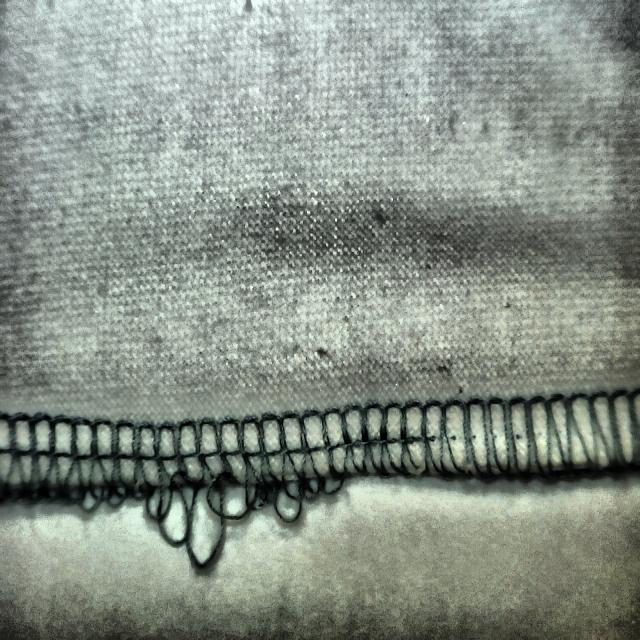Stitch: (4, 401, 344, 570)
